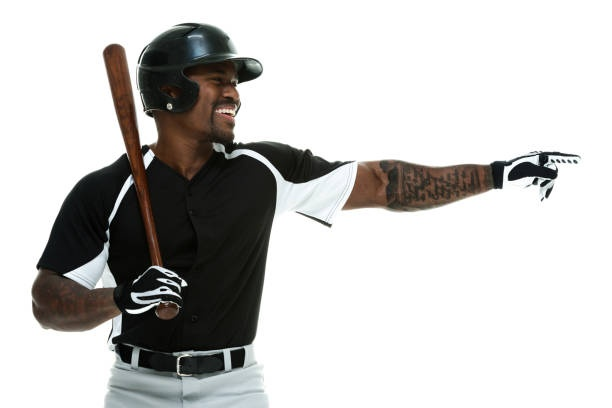bita: (100, 36, 179, 315)
